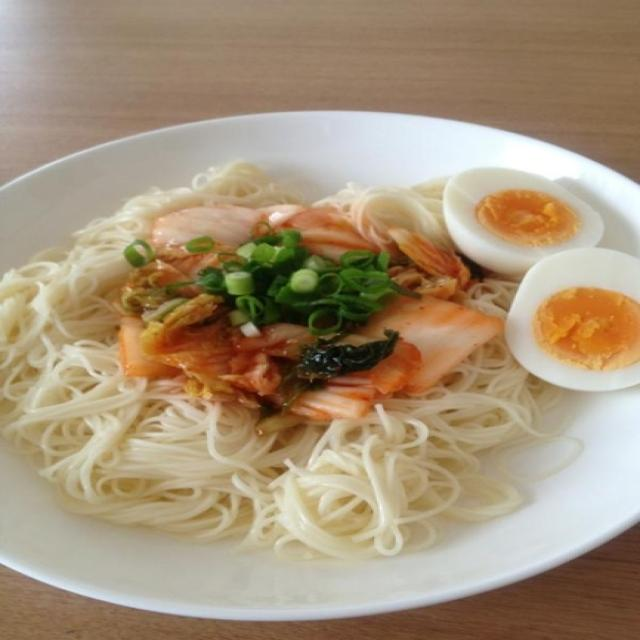面条主食: (2, 74, 636, 624)
